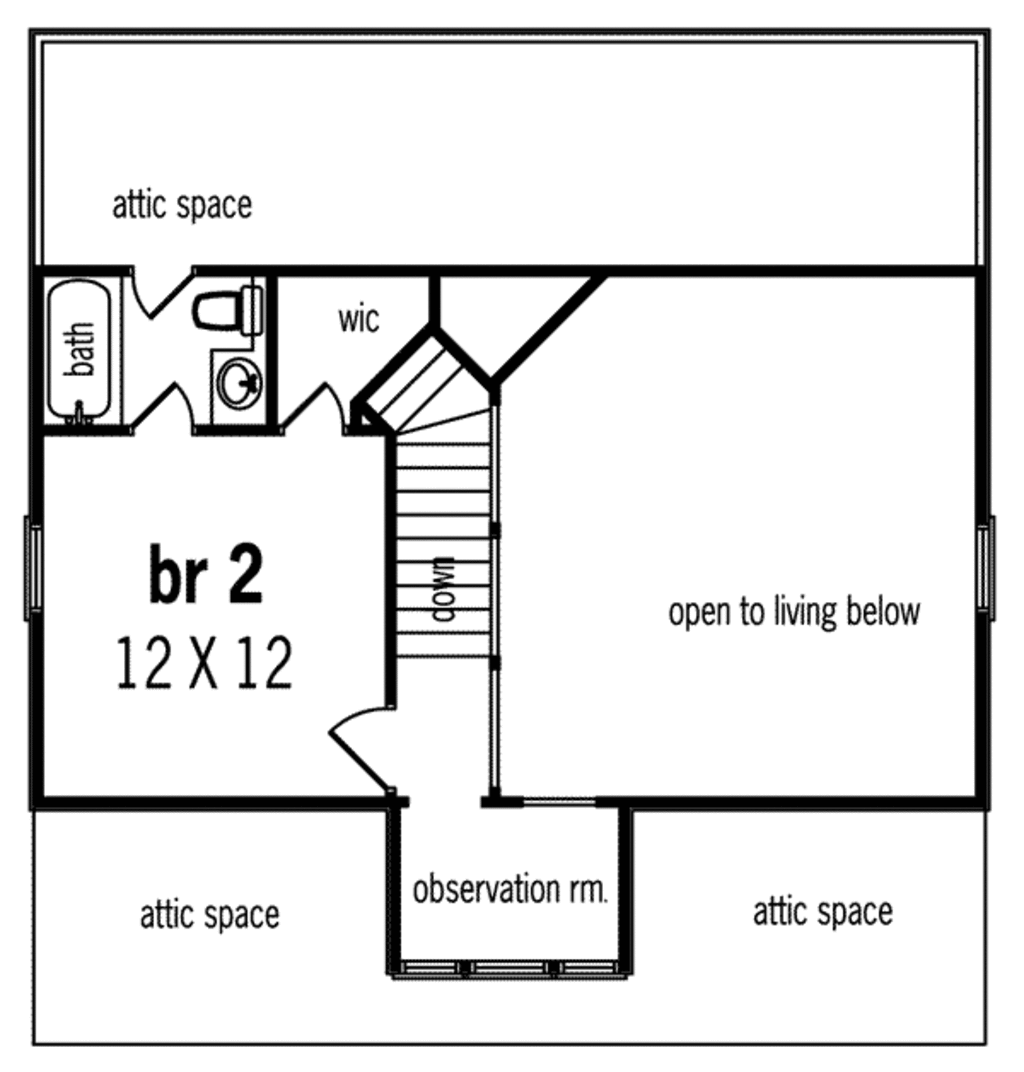door: (326, 699, 394, 791), (128, 261, 191, 319), (134, 380, 194, 433)
large_sink: (190, 285, 262, 339)
small_sink: (210, 347, 269, 424)
stairs: (352, 330, 508, 665)
tub: (37, 278, 126, 425)
windows: (389, 952, 631, 986), (969, 507, 1002, 620), (25, 517, 50, 625)
